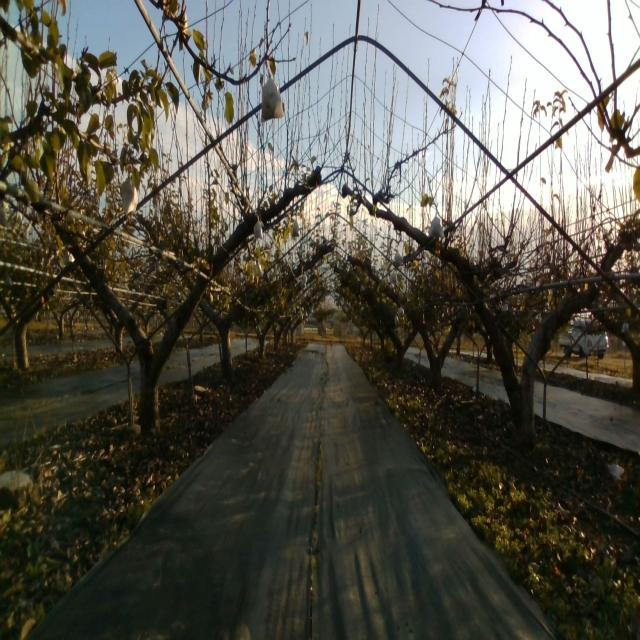pearbags: (260, 71, 284, 122), (120, 180, 139, 222), (428, 216, 445, 239)
